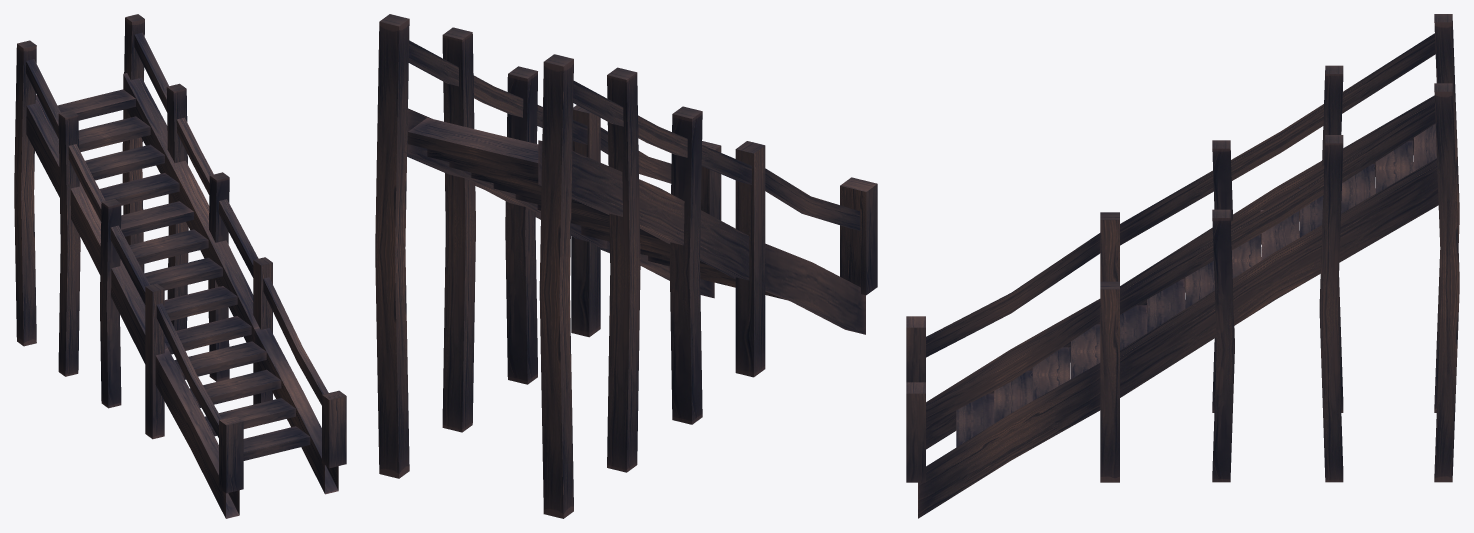
File: Stairs_C.fbx
3 renders of one model, left to right at view 1: azimuth 30°, elevation 25°; view 2: azimuth 150°, elevation 25°; view 3: azimuth 270°, elevation 25°, orthographic. The views are drawn at different scales.
Parts seen in each view (by area): view 1: Stairs_C; view 2: Stairs_C; view 3: Stairs_C.
Part boxes in pixels (box(x1,y1,x2,y2)): Stairs_C: box(14, 14, 346, 518); Stairs_C: box(375, 14, 877, 518); Stairs_C: box(906, 14, 1459, 518).
Size of the model in its own units: 0.337 by 0.8656 by 1.01.
